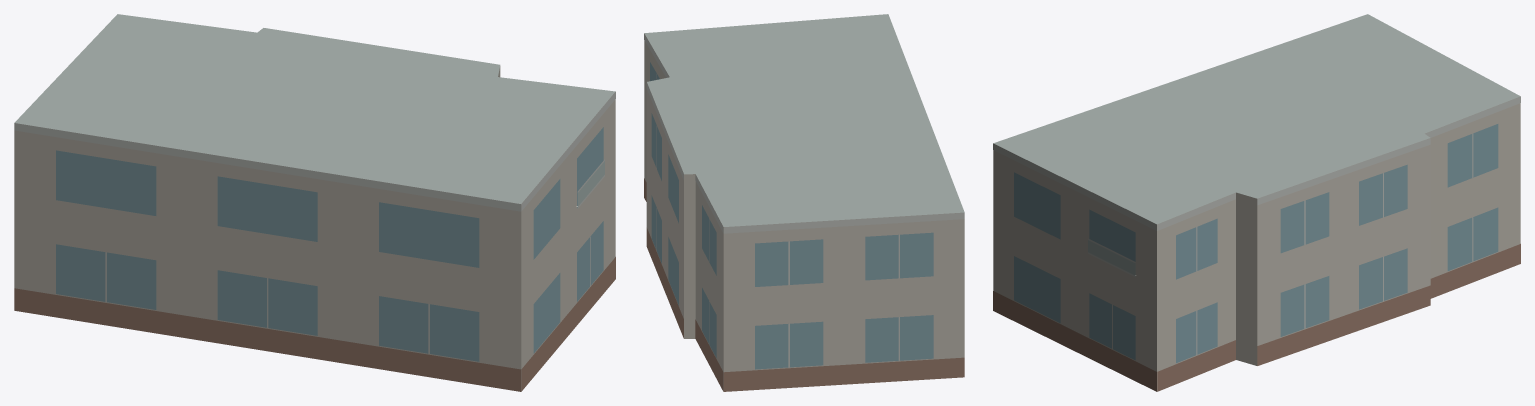
Rendered from survey-upis-32817974.glb.
3 renders of one model, left to right at view 1: azimuth 30°, elevation 25°; view 2: azimuth 150°, elevation 25°; view 3: azimuth 270°, elevation 25°, orthographic. The views are drawn at different scales.
Parts seen in each view (by area): view 1: survey-upis-32817974.tmp; view 2: survey-upis-32817974.tmp; view 3: survey-upis-32817974.tmp.
Part boxes in pixels (x1,y1,x2,y2): survey-upis-32817974.tmp: (14,14,615,391); survey-upis-32817974.tmp: (644,14,964,391); survey-upis-32817974.tmp: (993,14,1520,391).
Bounding box in the file's own units: 16.44 × 6.1 × 17.43.
